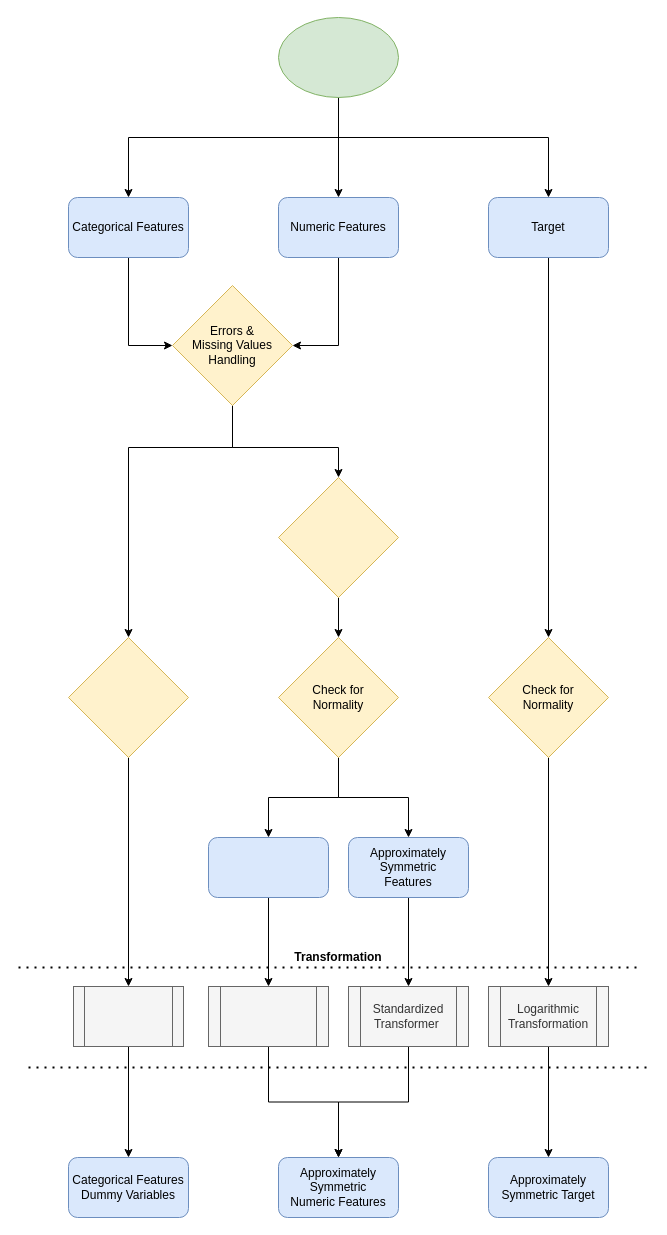
The diagram is 667 pixels wide and 1235 high, and some of its shapes have lost their labels. Each missing label, with the centre of its shape:
"Create Dummy Variables" goes at pixel 128 697.
"Exclude Outliers" goes at pixel 338 537.
"Highly-skewed Features" goes at pixel 268 867.
"House Features" goes at pixel 338 57.
"Label Encoder" goes at pixel 128 1016.
"Power Transformation" goes at pixel 268 1016.
